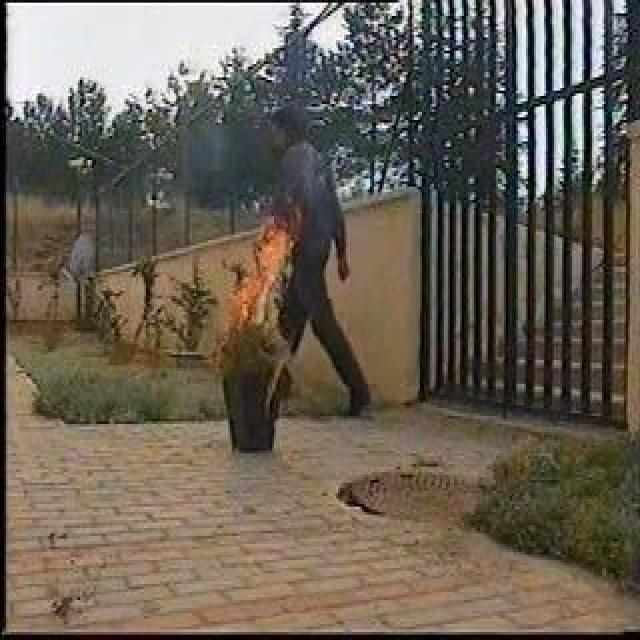Fire: (235, 211, 289, 328)
